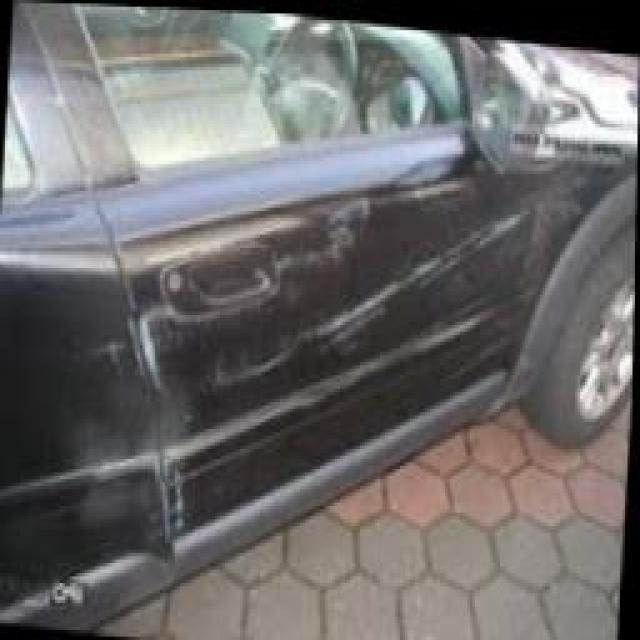rapairable: (297, 196, 543, 328), (116, 310, 299, 409), (118, 440, 211, 548)
